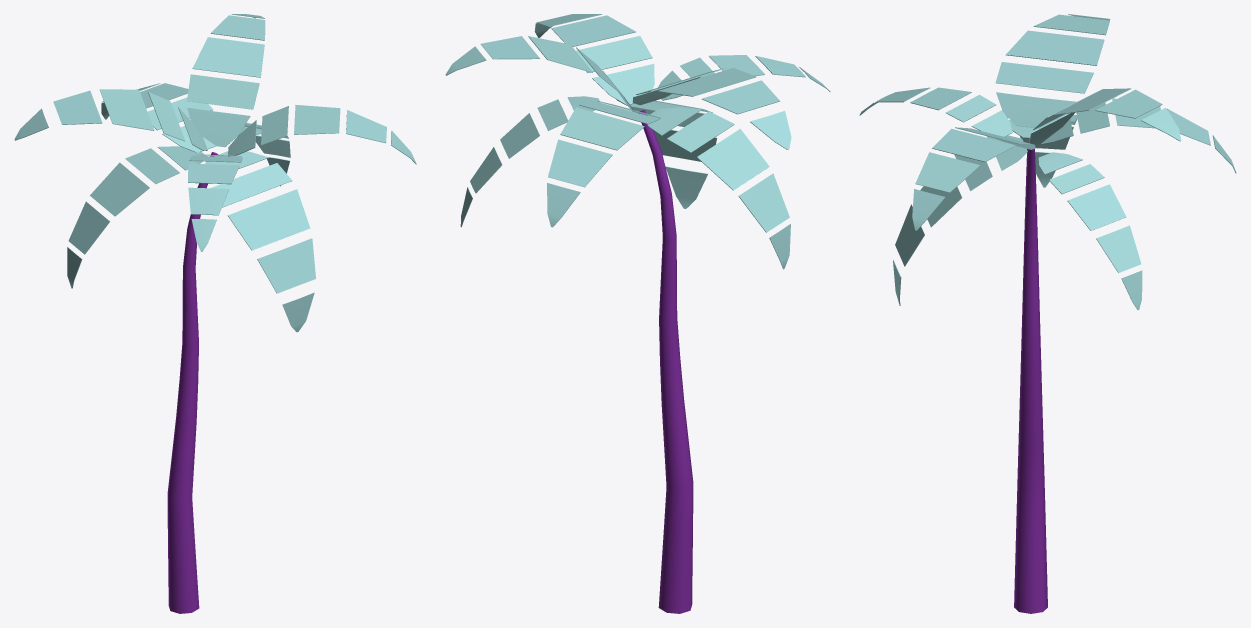
The model's file is Palm_tree.fbx.
3 renders of one model, left to right at view 1: azimuth 30°, elevation 25°; view 2: azimuth 150°, elevation 25°; view 3: azimuth 270°, elevation 25°, orthographic. The views are drawn at different scales.
Visible parts, largest first — view 1: stalk, fat_leaf_high, leaf_high3, leaf_high1, fat_leaf_high1, leaf_high, thinleaf_high1, leaf_high2, thinleaf_high; view 2: stalk, leaf_high1, leaf_high2, leaf_high, fat_leaf_high1, leaf_high3, thinleaf_high, fat_leaf_high, thinleaf_high1; view 3: stalk, fat_leaf_high1, thinleaf_high, leaf_high, leaf_high3, fat_leaf_high, thinleaf_high1, leaf_high2, leaf_high1.
Part boxes in pixels (box(x1,y1,x2,y2)): stalk: box(167, 152, 218, 613); fat_leaf_high: box(205, 151, 315, 332); leaf_high3: box(187, 14, 265, 147); leaf_high1: box(67, 146, 205, 288); fat_leaf_high1: box(14, 89, 207, 150); leaf_high: box(228, 104, 416, 164); thinleaf_high1: box(188, 154, 242, 251); leaf_high2: box(101, 83, 215, 152); thinleaf_high: box(240, 123, 290, 186); stalk: box(638, 110, 693, 613); leaf_high1: box(647, 107, 790, 269); leaf_high2: box(547, 100, 660, 227); leaf_high: box(534, 14, 654, 105); fat_leaf_high1: box(632, 67, 791, 149); leaf_high3: box(445, 36, 633, 111); thinleaf_high: box(460, 96, 599, 227); fat_leaf_high: box(616, 99, 716, 208); thinleaf_high1: box(658, 55, 830, 100); stalk: box(1014, 149, 1047, 613); fat_leaf_high1: box(995, 14, 1110, 128); thinleaf_high: box(1038, 152, 1142, 310); leaf_high: box(912, 127, 1035, 230); leaf_high3: box(1029, 88, 1181, 146); fat_leaf_high: box(893, 135, 1027, 305); thinleaf_high1: box(859, 87, 1012, 136); leaf_high2: box(1040, 98, 1236, 173); leaf_high1: box(1005, 114, 1077, 187).
Bounding box in the file's own units: 12.35 × 19.48 × 11.9.
